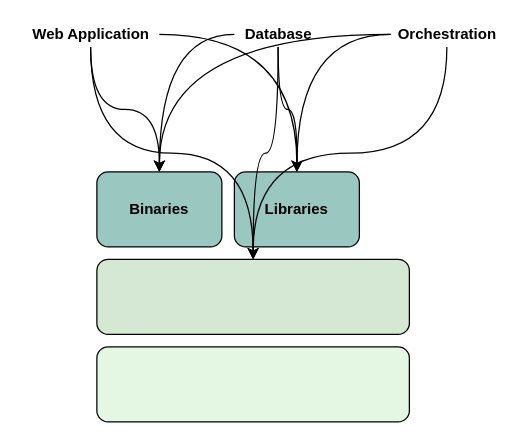
The diagram is 524 pixels wide and 444 high, and some of its shapes have lost their labels. The box of each missing label's shape, as (x1, y1, x2, y2) in pixels:
Hardware: (96, 346, 409, 422)
OS: (96, 258, 409, 334)
